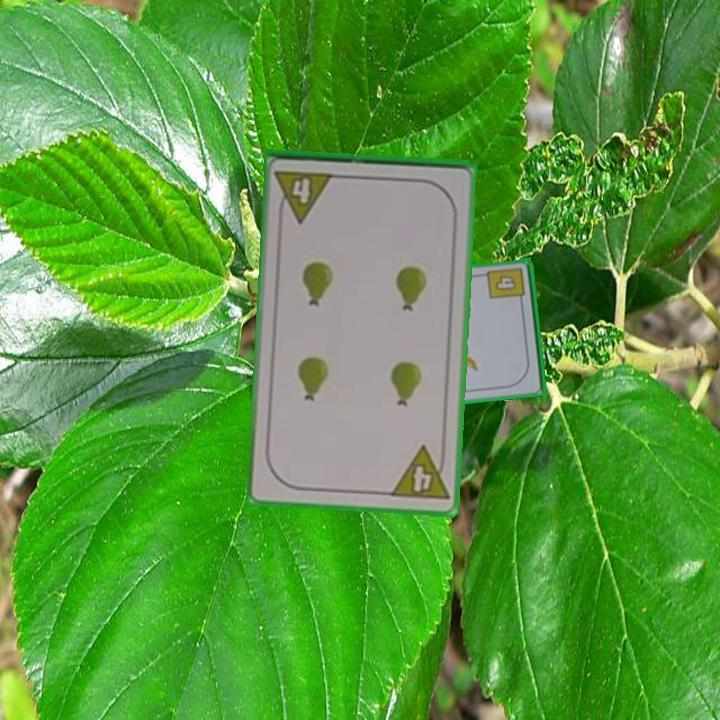4b: (484, 264, 528, 307)
4p: (387, 443, 452, 504), (271, 167, 337, 225)
